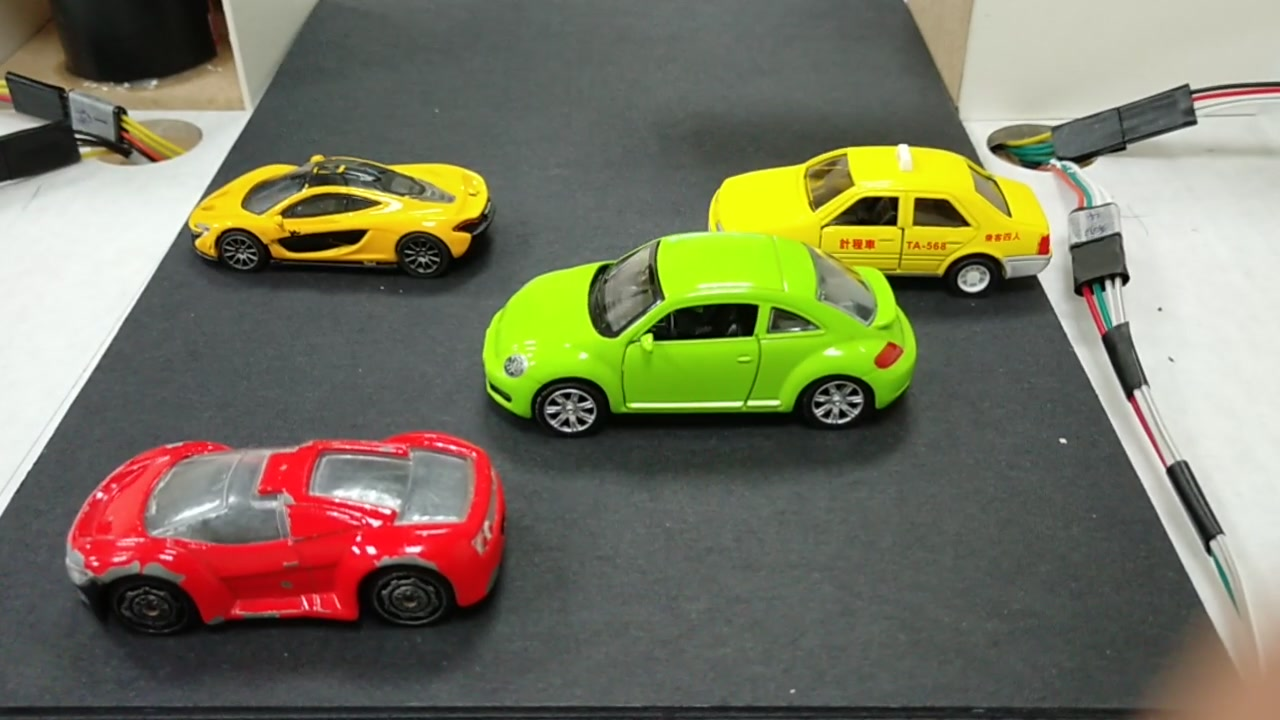car: (490, 249, 905, 432), (48, 452, 506, 616), (706, 145, 1051, 278), (196, 159, 489, 283)
